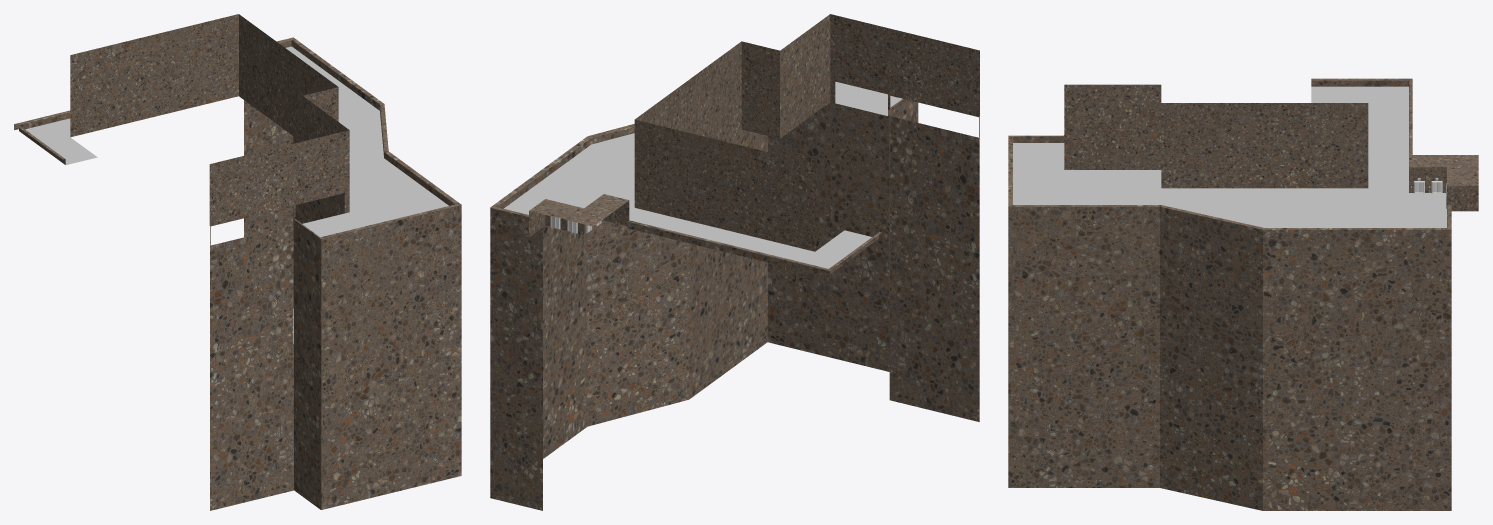
File: Gym_Outside.fbx
3 views of the same model, side by side, from view 1: azimuth 30°, elevation 25°; view 2: azimuth 150°, elevation 25°; view 3: azimuth 270°, elevation 25° (orthographic). The views are drawn at different scales.
Parts seen in each view (by area): view 1: Plane.111, Plane.161, Plane.164, Plane.162, Plane.163, Plane.159, Plane.165, Plane.158, Plane.166, Plane.167, Plane.152, Plane.168; view 2: Plane.111, Plane.160, Plane.161, Plane.162, Plane.163, Plane.166, Plane.159, Plane.164, Plane.158, Plane.165, Plane.168, Plane.152; view 3: Plane.160, Plane.165, Plane.111, Plane.166, Plane.159, Plane.158, Plane.161, Plane.168, Plane.167, Plane.152.
Part boxes in pixels (x1,y1,x2,y2): Plane.111: (70,14,349,225); Plane.161: (322,340,461,509); Plane.164: (294,217,412,374); Plane.162: (210,354,322,510); Plane.163: (210,225,293,375); Plane.159: (25,46,448,237); Plane.165: (412,205,461,352); Plane.158: (244,197,333,308); Plane.166: (244,100,344,209); Plane.167: (210,151,461,245); Plane.152: (277,37,388,154); Plane.168: (14,110,70,164); Plane.111: (529,14,979,251); Plane.160: (543,246,738,458); Plane.161: (738,208,889,371); Plane.162: (889,255,979,421); Plane.163: (890,116,979,276); Plane.166: (490,208,587,365); Plane.159: (504,81,902,268); Plane.164: (820,99,918,254); Plane.158: (490,353,542,510); Plane.165: (587,109,820,281); Plane.168: (627,220,881,277); Plane.152: (490,124,634,216); Plane.160: (1064,347,1368,510); Plane.165: (1008,206,1262,370); Plane.111: (1064,84,1478,211); Plane.166: (1263,229,1451,370); Plane.159: (1013,86,1446,227); Plane.158: (1368,370,1451,510); Plane.161: (1008,347,1064,487); Plane.168: (1311,78,1412,154); Plane.167: (1008,135,1160,206); Plane.152: (1160,204,1451,229).
Bounding box in the file's own units: 6216 × 8183 × 6908.
